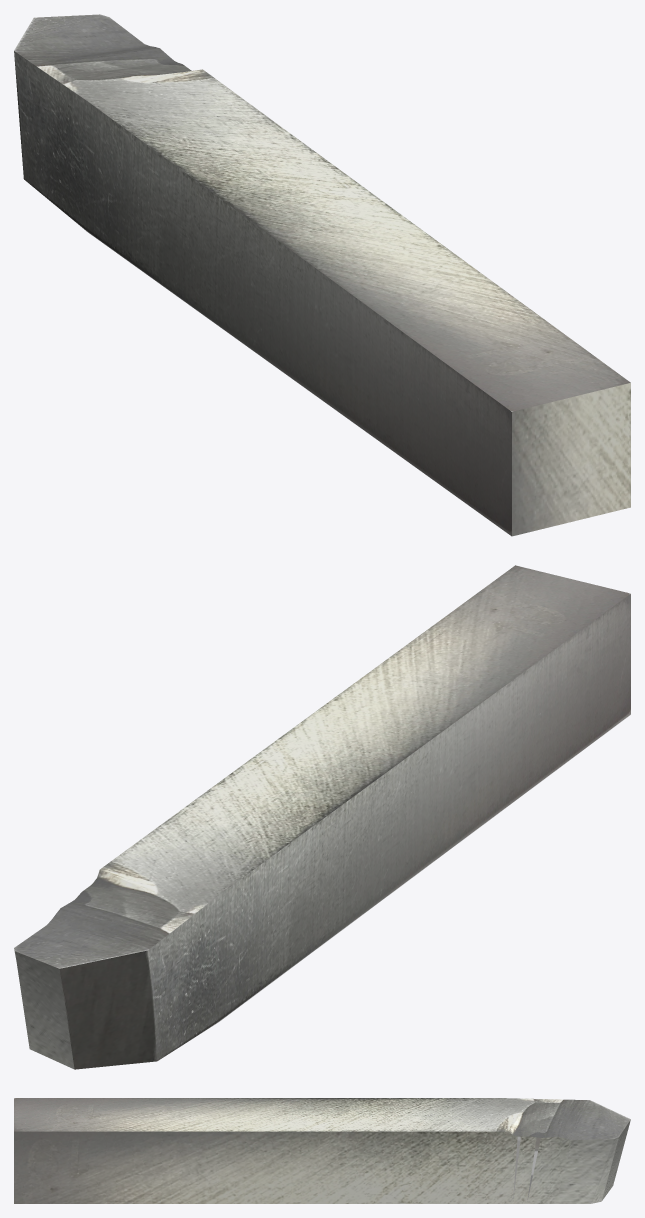
File: num01车刀.FBX
The picture shows the model from 3 angles, top to bottom: view 1: azimuth 30°, elevation 25°; view 2: azimuth 150°, elevation 25°; view 3: azimuth 270°, elevation 25°; orthographic projection. The views are drawn at different scales.
Visible parts, largest first — view 1: 操作车刀; view 2: 操作车刀; view 3: 操作车刀.
Part boxes in pixels (box(x1,y1,x2,y2)): 操作车刀: box(14, 14, 630, 536); 操作车刀: box(14, 565, 630, 1069); 操作车刀: box(14, 1098, 630, 1203).
Bounding box in the file's own units: 12 × 93.03 × 12.59.
1 material, 1 textured.
